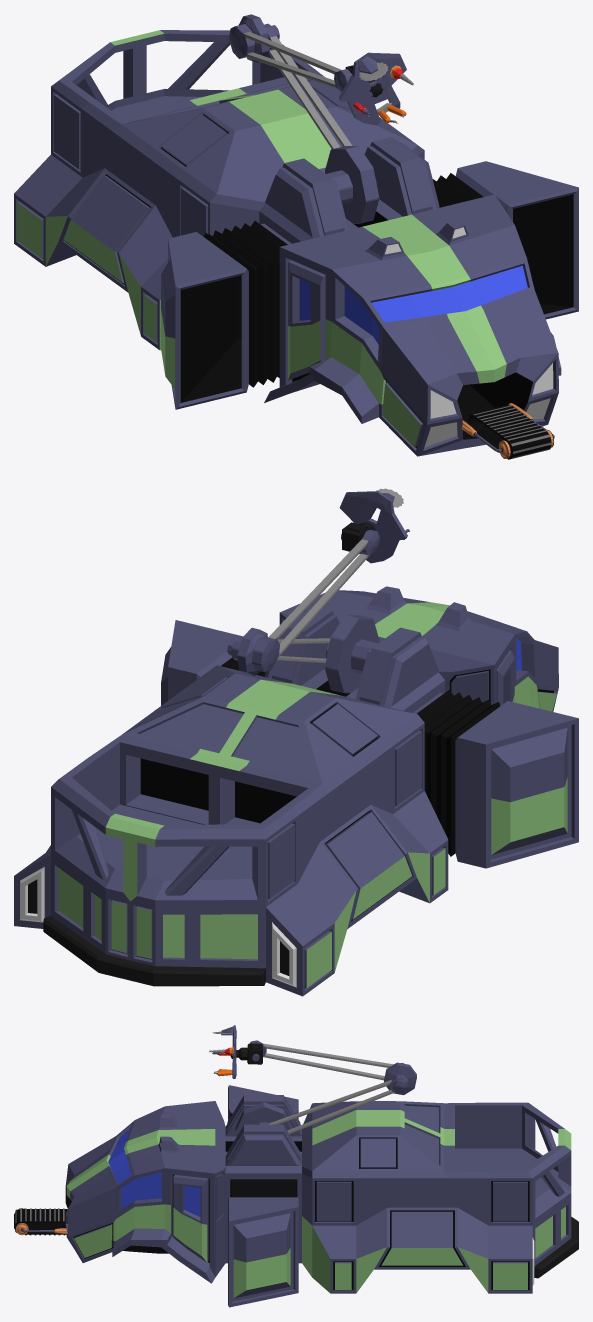
The model's file is hefestos unwrap.fbx.
3 views of the same model, one above another, from view 1: azimuth 30°, elevation 25°; view 2: azimuth 150°, elevation 25°; view 3: azimuth 270°, elevation 25° (orthographic). The views are drawn at different scales.
Parts seen in each view (by area): view 1: Hefestos, H arm 1, Cylinder.004, Cylinder.003, Cube.001, chasiscinta; view 2: Hefestos, Cylinder.003, H arm 1, Cylinder.004; view 3: Hefestos, H arm 1, Cylinder.003, Cube.001, Cylinder.004, Cube.017.
Part boxes in pixels (box(x1,y1,x2,y2)): Hefestos: box(14, 30, 578, 456); H arm 1: box(264, 23, 379, 223); Cylinder.004: box(339, 52, 413, 125); Cylinder.003: box(229, 14, 351, 91); Cube.001: box(468, 404, 551, 459); chasiscinta: box(461, 403, 554, 458); Hefestos: box(14, 586, 578, 996); Cylinder.003: box(227, 529, 379, 676); H arm 1: box(231, 615, 379, 693); Cylinder.004: box(339, 488, 409, 563); Hefestos: box(65, 1085, 578, 1307); H arm 1: box(235, 1075, 407, 1136); Cylinder.003: box(250, 1040, 416, 1095); Cube.001: box(14, 1208, 67, 1235); Cylinder.004: box(209, 1025, 236, 1078); Cube.017: box(230, 1043, 262, 1064).
Bounding box in the file's own units: 1126 × 836 × 1970.
